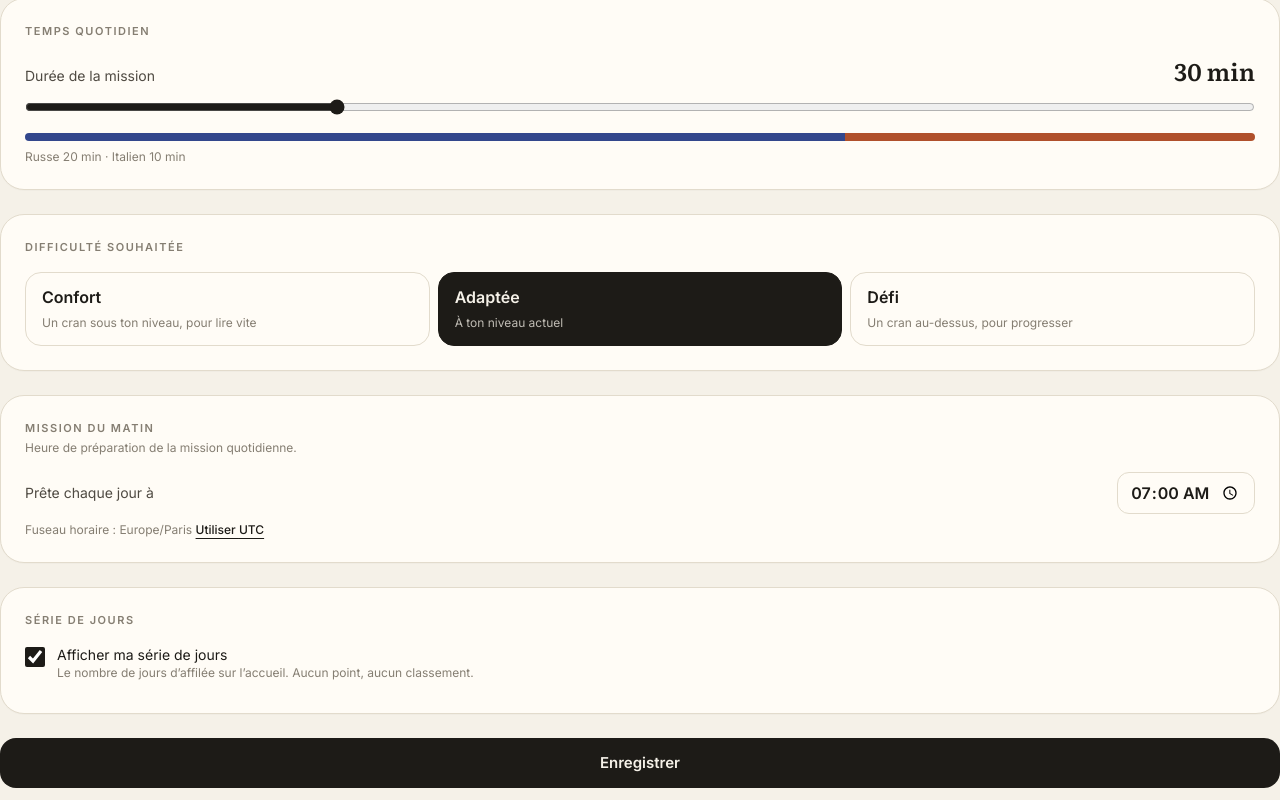
Test: PreferencesForm › shows the server error when saving fails
(page scrolled)
Click the button "Enregistrer" at [640, 763], box x1=0 y1=738 x2=1279 y2=788
(page scrolled)
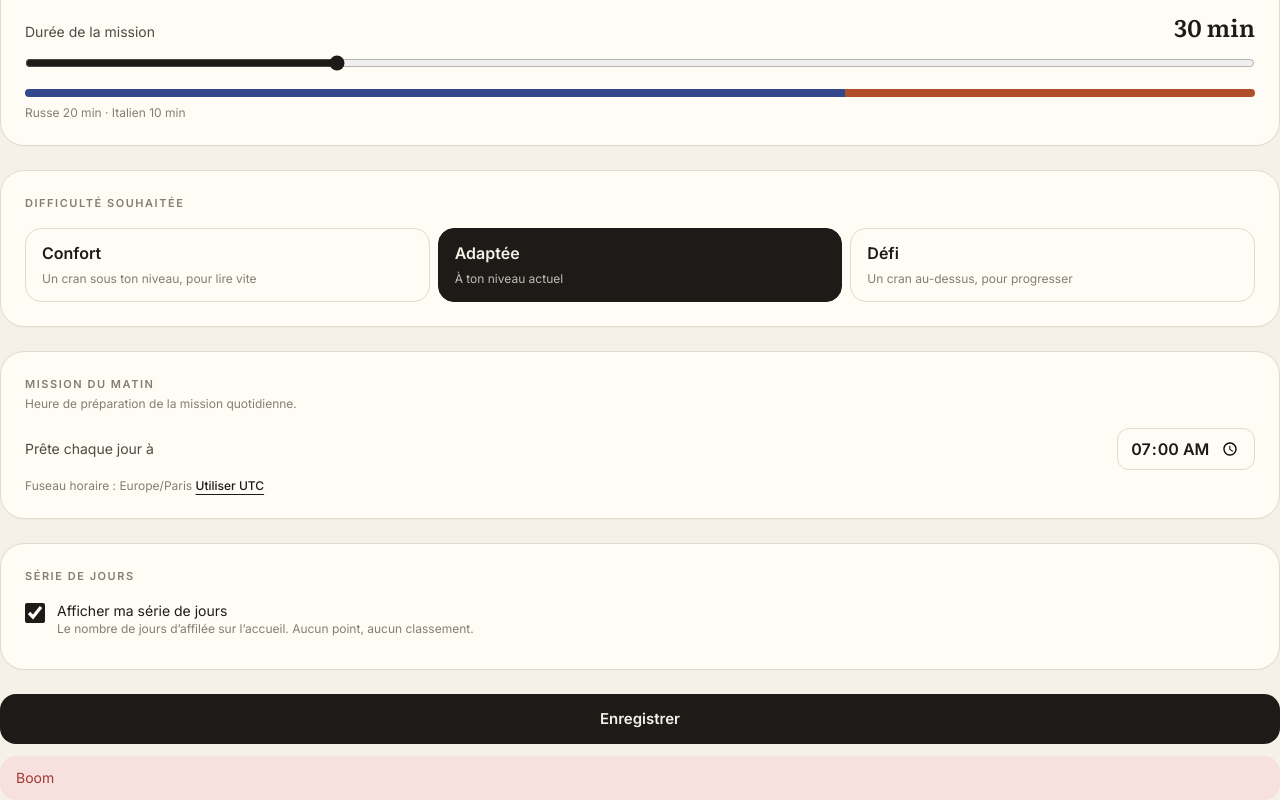
Expected: the list item "Boom" is shown, x1=16 y1=769 x2=54 y2=786
